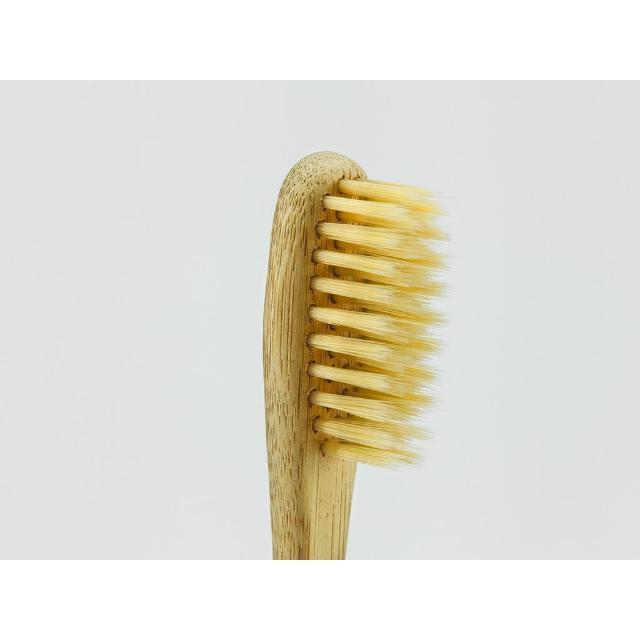toothbrush: (219, 140, 461, 558)
